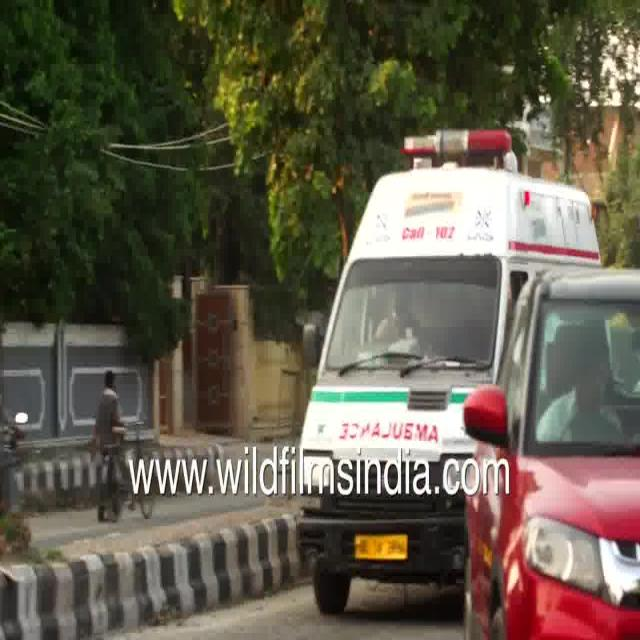ambulance: (296, 123, 604, 459)
